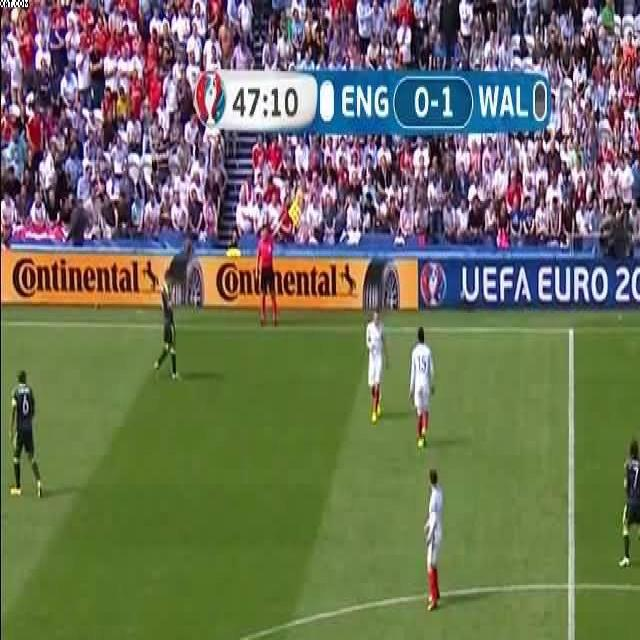player-white: (10, 368, 42, 496), (408, 325, 434, 449), (153, 273, 180, 381), (424, 467, 443, 611), (619, 437, 640, 565), (365, 309, 387, 426), (256, 224, 278, 324)
